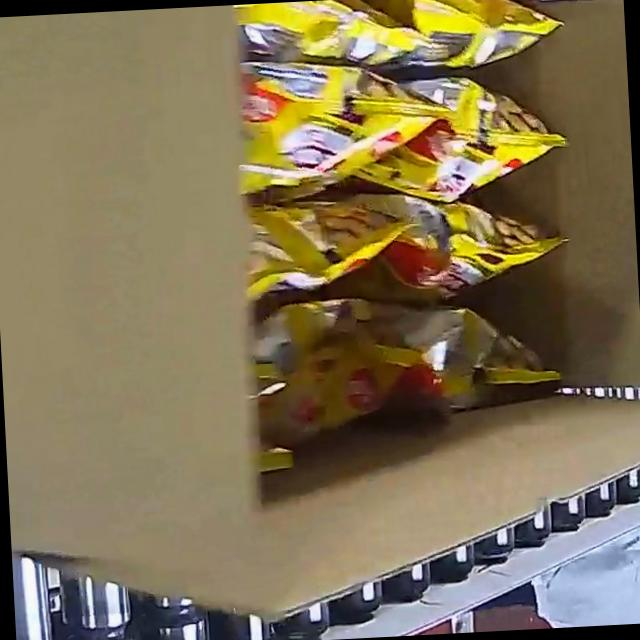salted: (230, 0, 590, 463)
